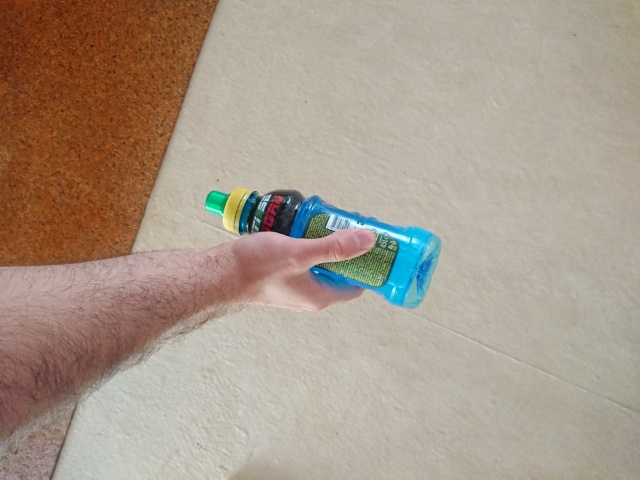Vindi Iso Sport Forest Strawberries 500mL: (203, 185, 443, 311)
